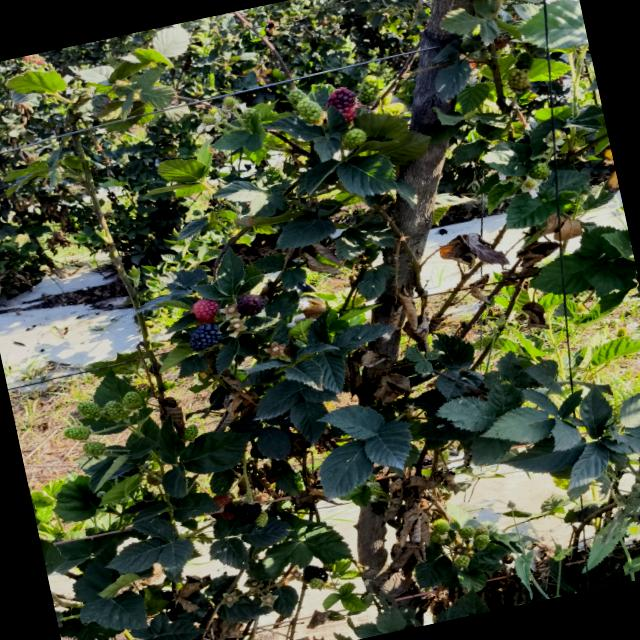maduro: (189, 323, 222, 350), (241, 503, 261, 523), (303, 565, 327, 581)
marron: (327, 87, 356, 122), (236, 294, 265, 315), (193, 299, 218, 319), (222, 502, 241, 519), (213, 494, 232, 508)
verde: (297, 97, 324, 124), (358, 75, 379, 104), (102, 400, 128, 421), (342, 128, 366, 149), (122, 391, 144, 410), (63, 425, 90, 440), (287, 88, 307, 107), (77, 401, 99, 417), (82, 441, 105, 456), (433, 518, 449, 534), (183, 424, 198, 440), (473, 534, 489, 549), (458, 525, 475, 538), (453, 555, 470, 567), (255, 511, 268, 526), (474, 524, 489, 536), (308, 578, 324, 589)
